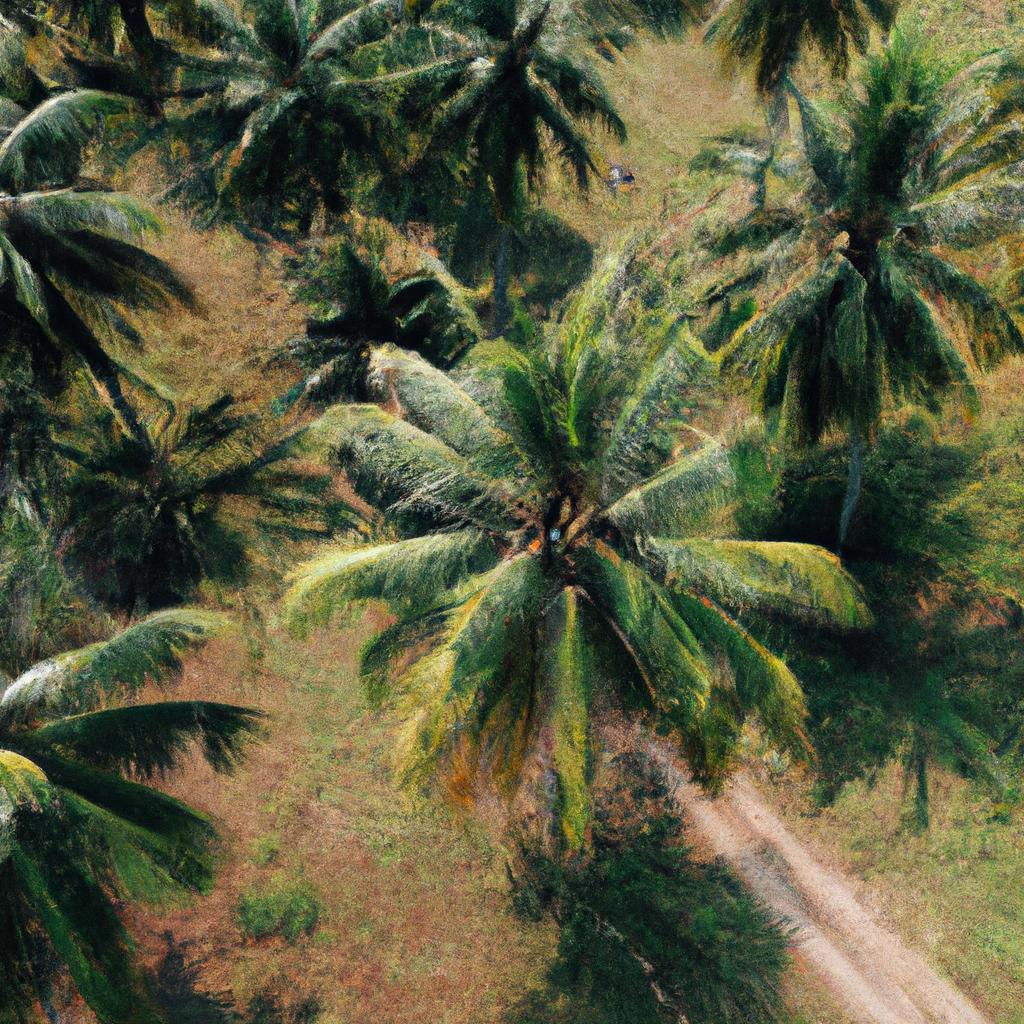coconut_tree: (316, 274, 881, 847)
